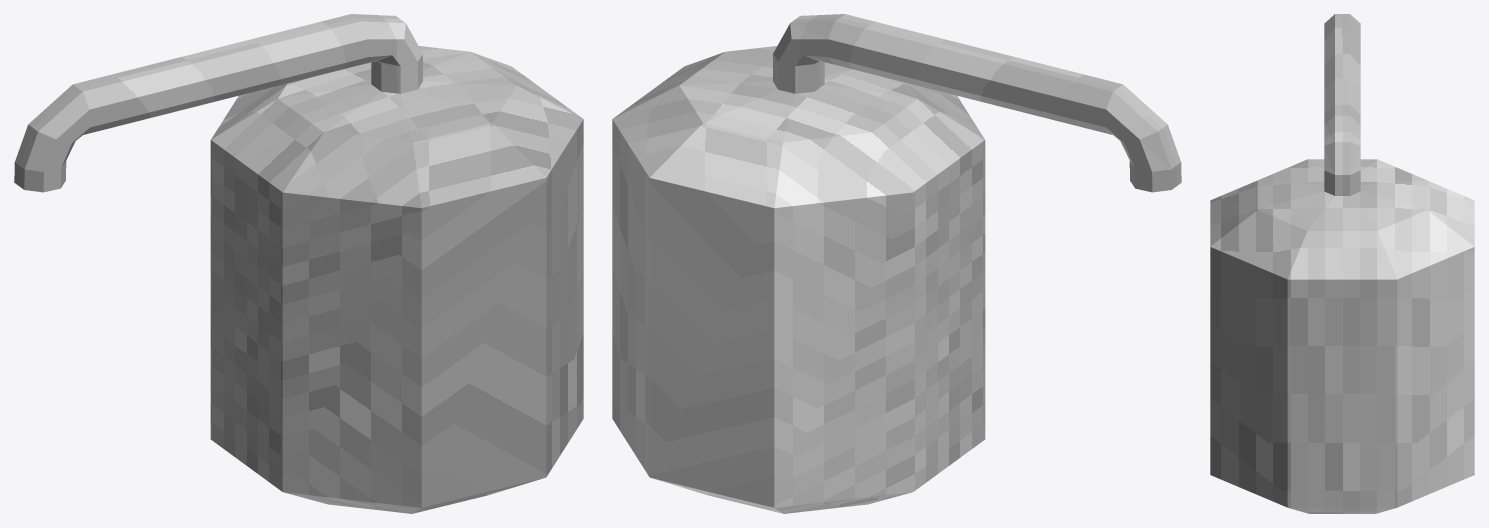
File: evaporator.obj
3 renders of one model, left to right at view 1: azimuth 30°, elevation 25°; view 2: azimuth 150°, elevation 25°; view 3: azimuth 270°, elevation 25°, orthographic. The views are drawn at different scales.
Visible parts, largest first — view 1: Cylinder; view 2: Cylinder; view 3: Cylinder.
Boxes of the visible parts, <box> form: Cylinder: <box>14,14,583,513</box>; Cylinder: <box>612,14,1181,513</box>; Cylinder: <box>1210,14,1474,513</box>.
Bounding box in the file's own units: 1.48 × 1.23 × 0.8431.
